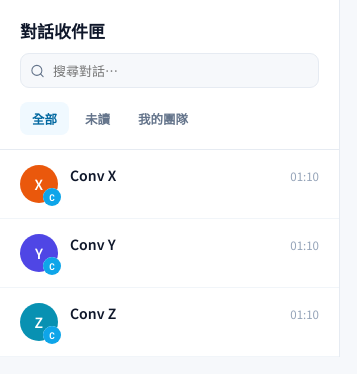
Test: ConversationList 我的團隊 tab › shows only conversations whose team is one of the agent own teams
Click the button "我的團隊": (163, 118) left=126, top=102, right=200, bottom=135
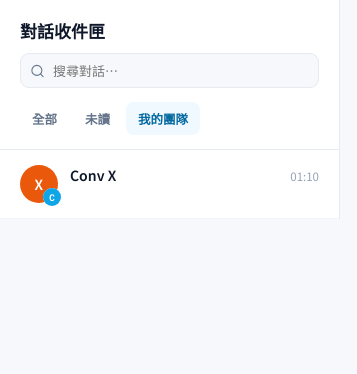
Expected: the text "Conv X" is shown, left=70, top=165, right=116, bottom=185
Result: the text "Conv Y" is gone
Result: the text "Conv Z" is gone
